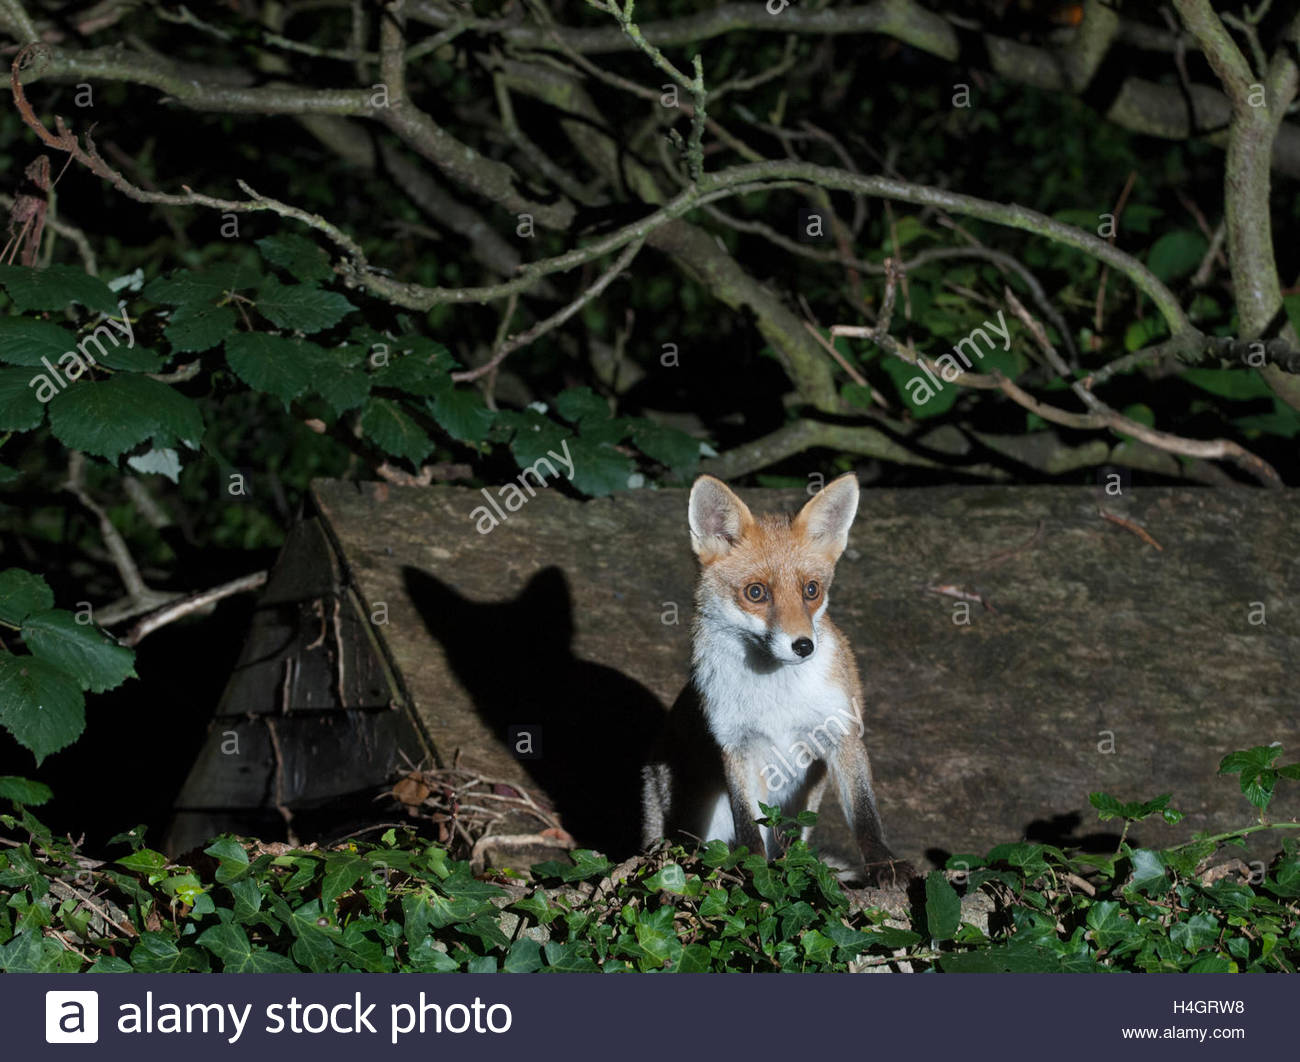fox: (627, 446, 909, 904)
